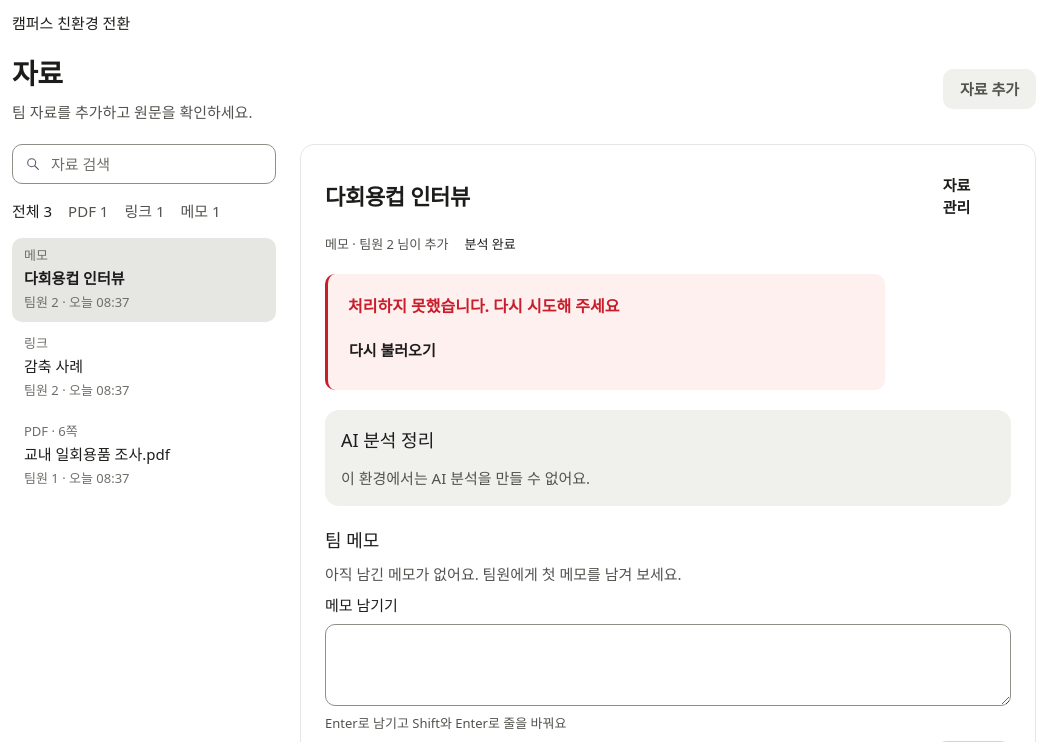
Test: 목록과 유형별 개수, 선택한 자료의 작성자와 출처, 링크가 아닌 자료의 AI 분석 정리 영역을 보여 준다
Expected: the link "PDF 1" is shown, left=68, top=200, right=108, bottom=222
Expected: the text "메모 · 팀원 2 님이 추가" is shown, left=325, top=235, right=448, bottom=254
Click the link "PDF · 6쪽 교내 일회용품 조사.pdf 팀원 1 · 오늘 08:37" at (97, 454), box left=24, top=422, right=170, bottom=487
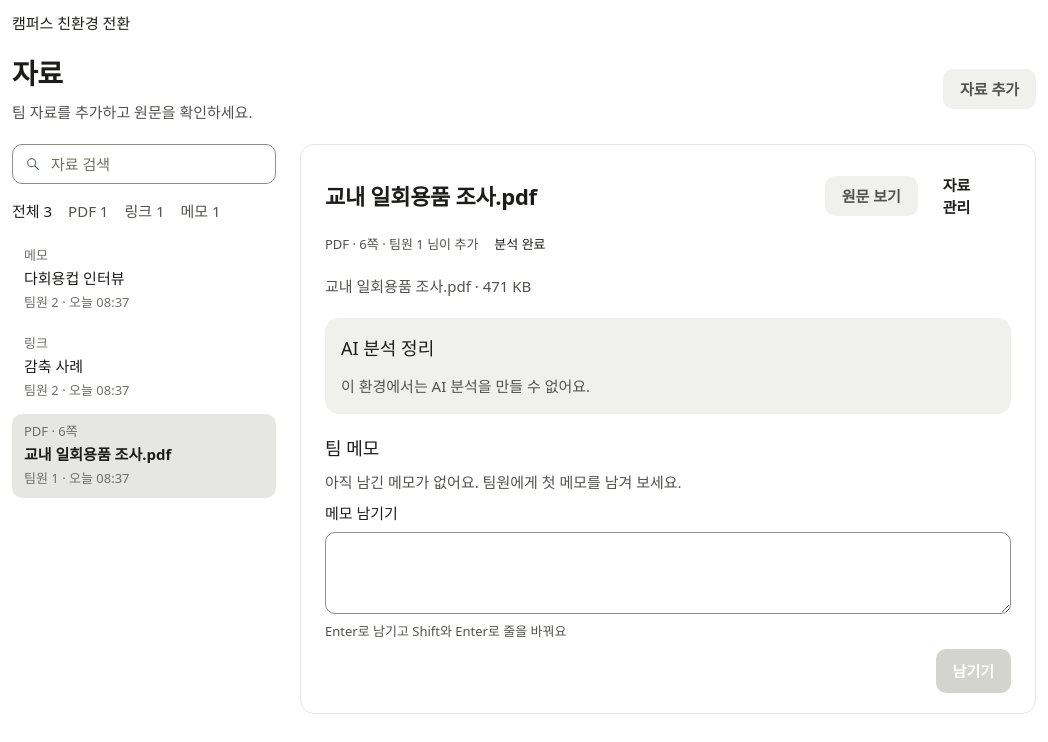
Expected: the text "분석 완료" is shown, left=494, top=235, right=546, bottom=254
Expected: the text "PDF · 6쪽 · 팀원 1 님이 추가" is shown, left=325, top=235, right=478, bottom=254
Expected: the button "원문 보기" is shown, left=825, top=176, right=918, bottom=216
Click the link "링크 감축 사례 팀원 2 · 오늘 08:37" at (77, 366), box left=24, top=334, right=130, bottom=399
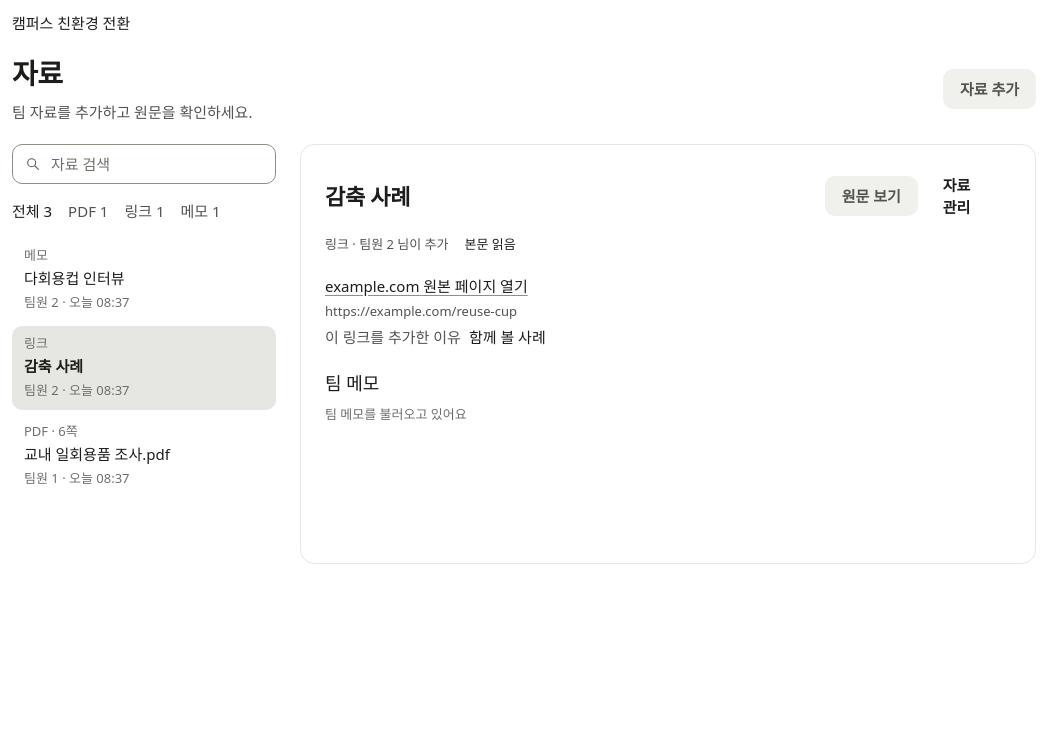
Expected: the link "example.com 원본 페이지 열기" is shown, left=325, top=276, right=627, bottom=296
Expected: the text "함께 볼 사례" is shown, left=469, top=325, right=546, bottom=349
Expected: the heading "AI 분석 정리" is gone
# 유형 필터는 주소에 남는다
Click the link "메모 1" at (201, 211), box left=180, top=200, right=221, bottom=222
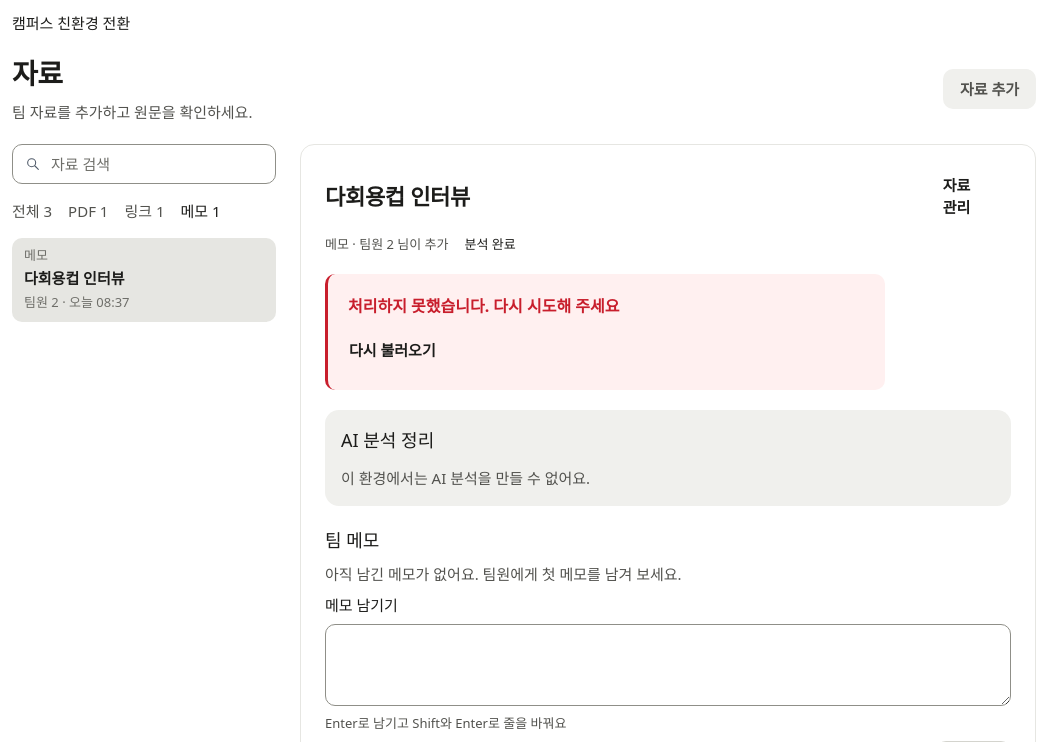
Expected: the link "메모 다회용컵 인터뷰 팀원 2 · 오늘 08:37" is shown, left=12, top=238, right=276, bottom=322
Expected: the link "감축 사례" is gone
